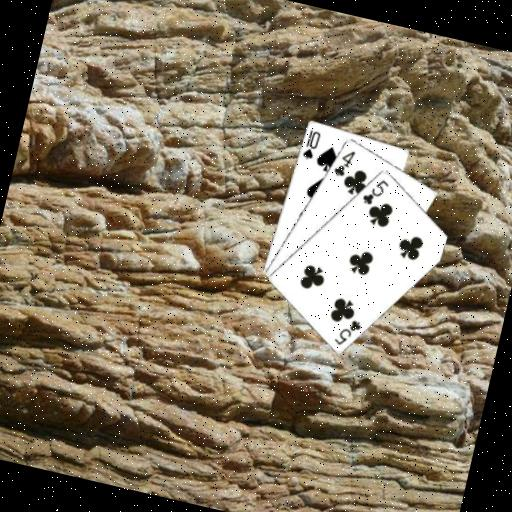10S: (298, 126, 322, 163)
4C: (330, 144, 358, 180)
5C: (358, 172, 392, 210), (330, 313, 364, 350)
